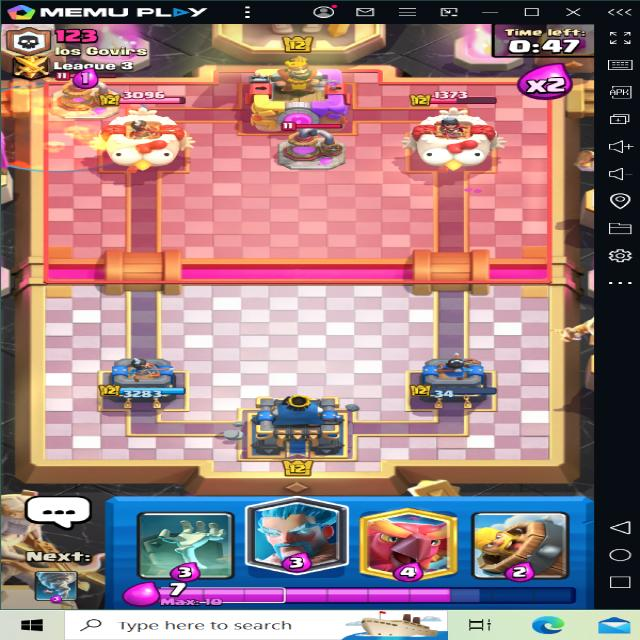Pump: (261, 120, 359, 182), (37, 71, 135, 123)
